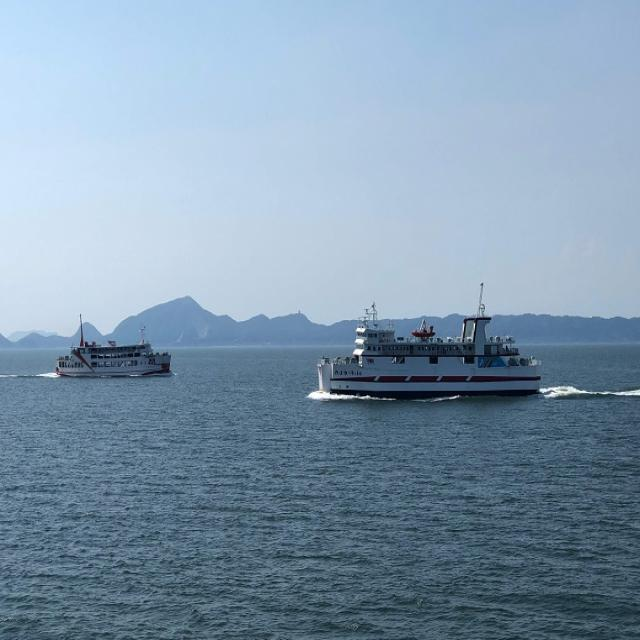fishing boat: (317, 307, 545, 407), (37, 300, 185, 374)
